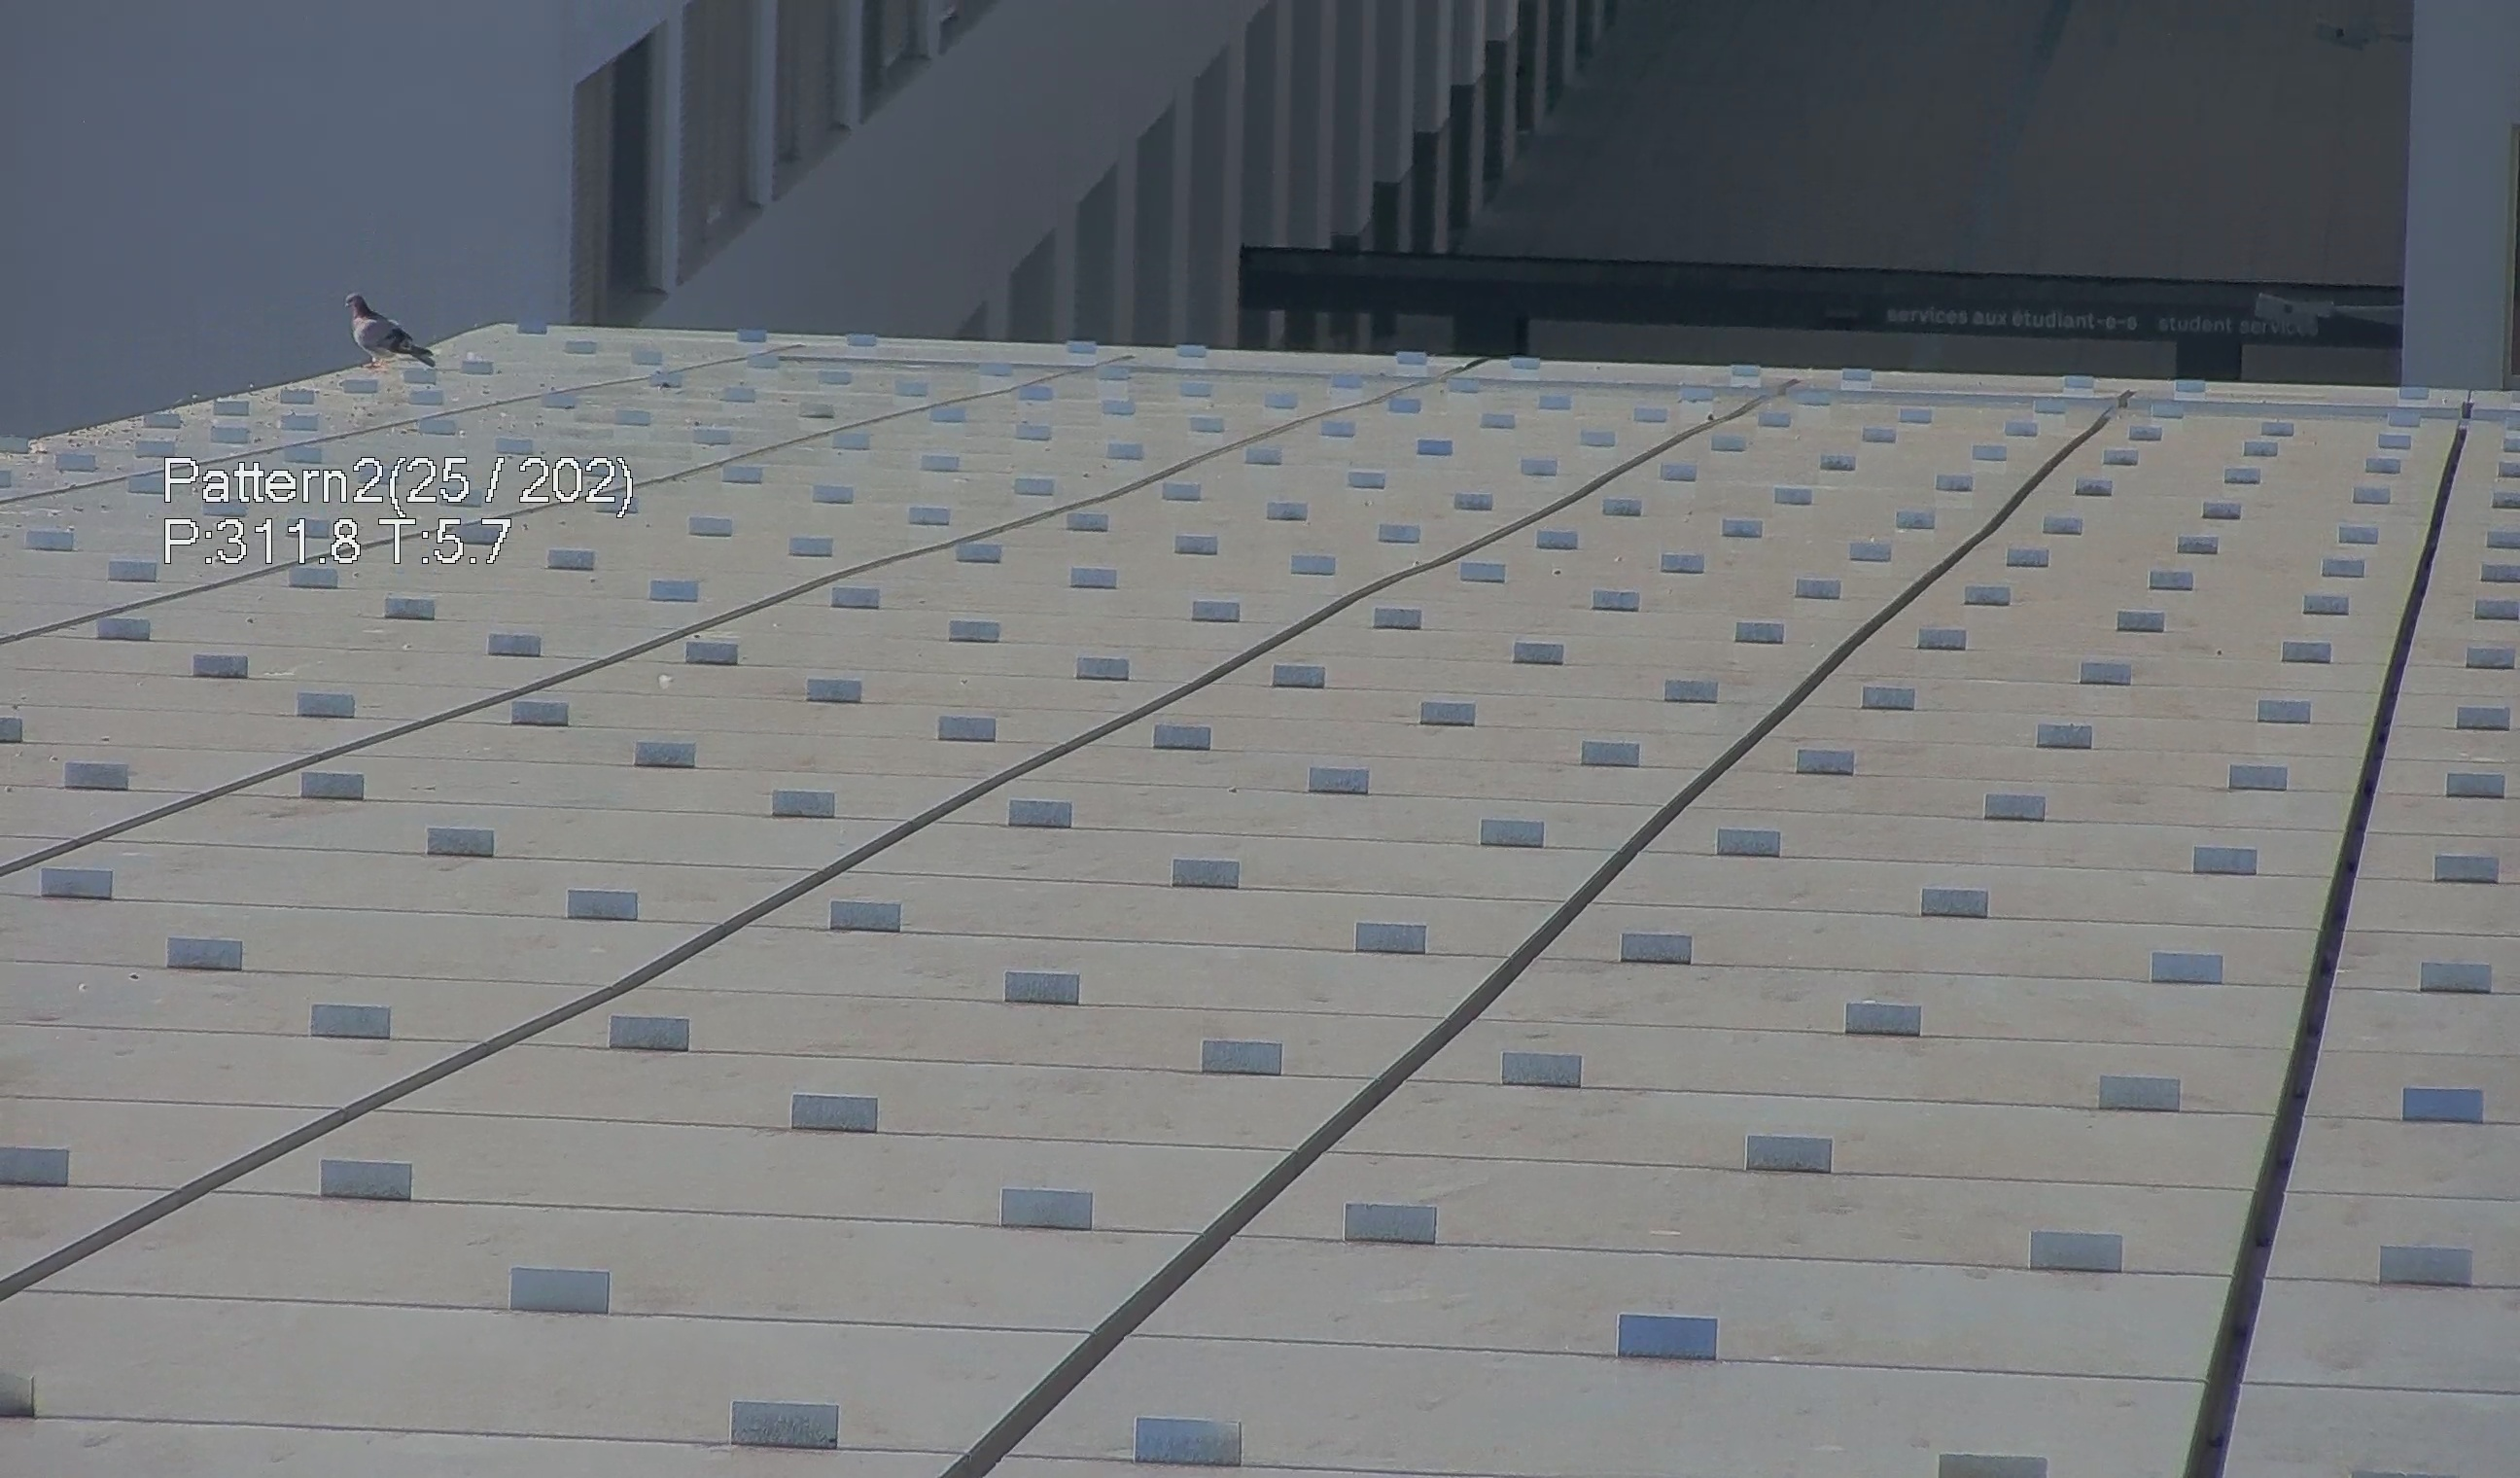Pigeon: (327, 282, 447, 380)
